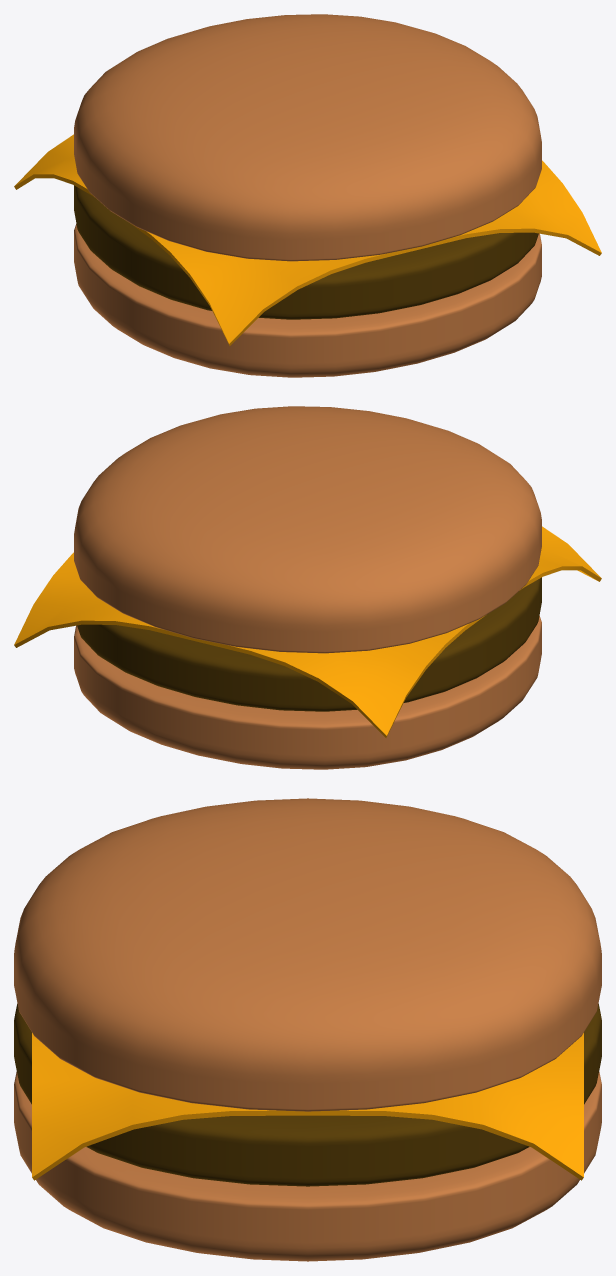
The model's file is sandwich.glb.
3 renders of one model, top to bottom at view 1: azimuth 30°, elevation 25°; view 2: azimuth 150°, elevation 25°; view 3: azimuth 270°, elevation 25°, orthographic. The views are drawn at different scales.
Visible parts, largest first — view 1: Cube.001, Cube, Cube.002, Plane; view 2: Cube.001, Cube, Cube.002, Plane; view 3: Cube.001, Cube, Cube.002, Plane.
Part boxes in pixels (x1,y1,x2,y2): Cube.001: [74, 14, 541, 261]; Cube: [74, 224, 541, 377]; Cube.002: [74, 185, 538, 319]; Plane: [14, 134, 601, 345]; Cube.001: [74, 406, 541, 653]; Cube: [74, 616, 541, 769]; Cube.002: [77, 577, 541, 711]; Plane: [14, 526, 601, 737]; Cube.001: [14, 798, 601, 1111]; Cube: [14, 1071, 601, 1261]; Cube.002: [14, 1003, 601, 1186]; Plane: [32, 1033, 583, 1180].
Bounding box in the file's own units: 9.17 × 4.97 × 9.17.
